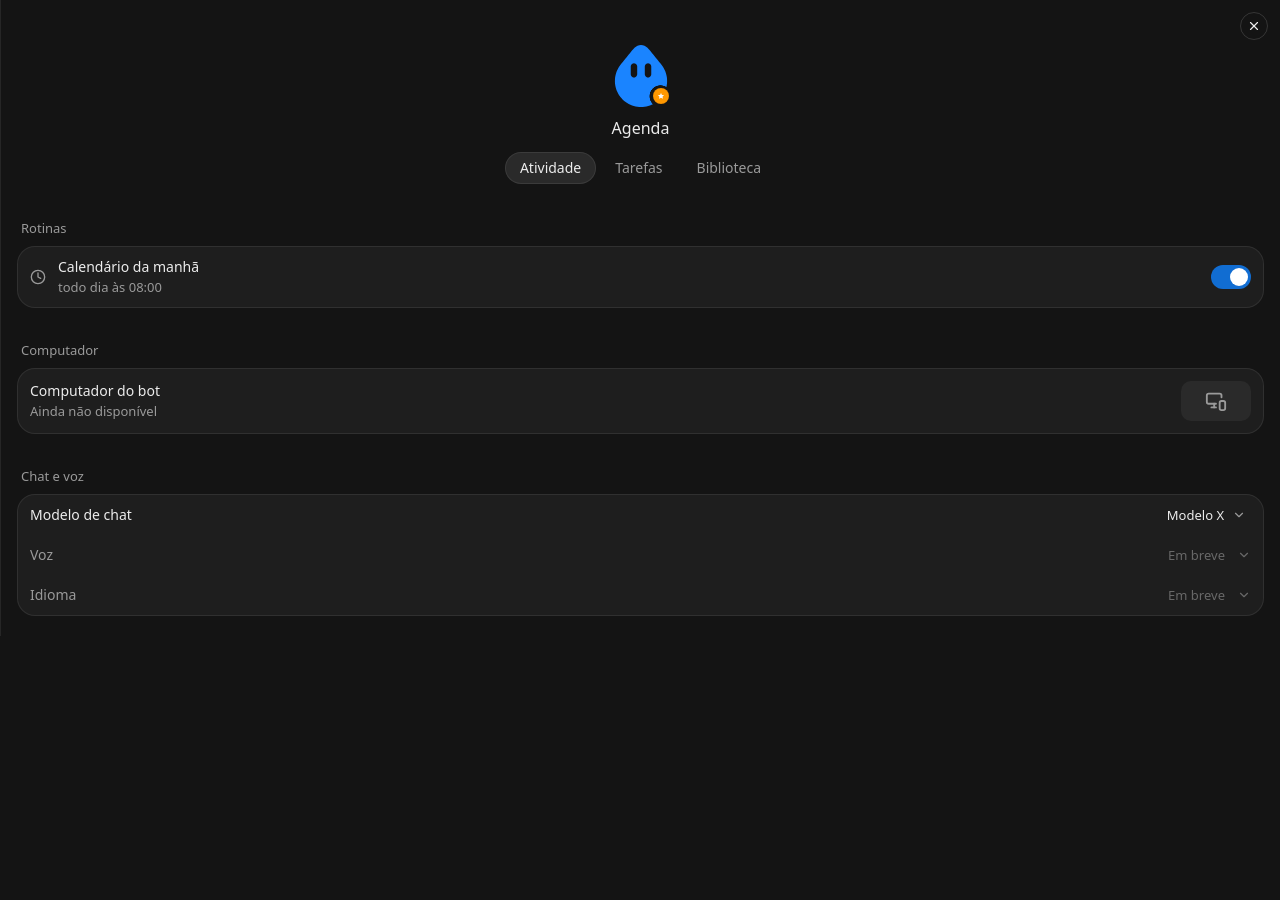
Test: the detail of a routine, in the panel › Pausar and Retomar change the routine
Click the button "Calendário da manhã todo dia às 08:00". click: (129, 266)
box: top-left (18, 247), bottom-right (1199, 307)
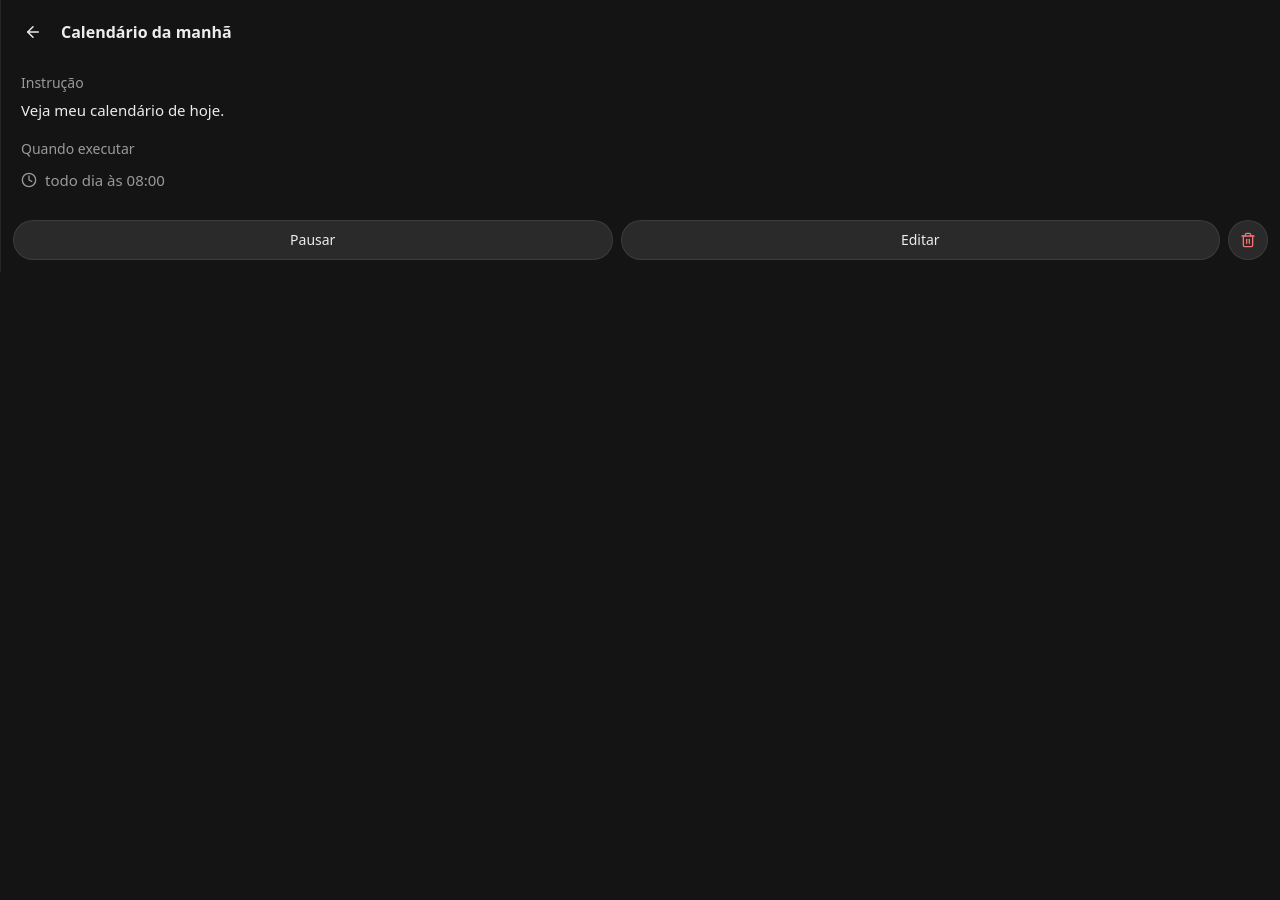
Click the button "Pausar". click: (313, 240)
box: top-left (13, 220), bottom-right (612, 260)
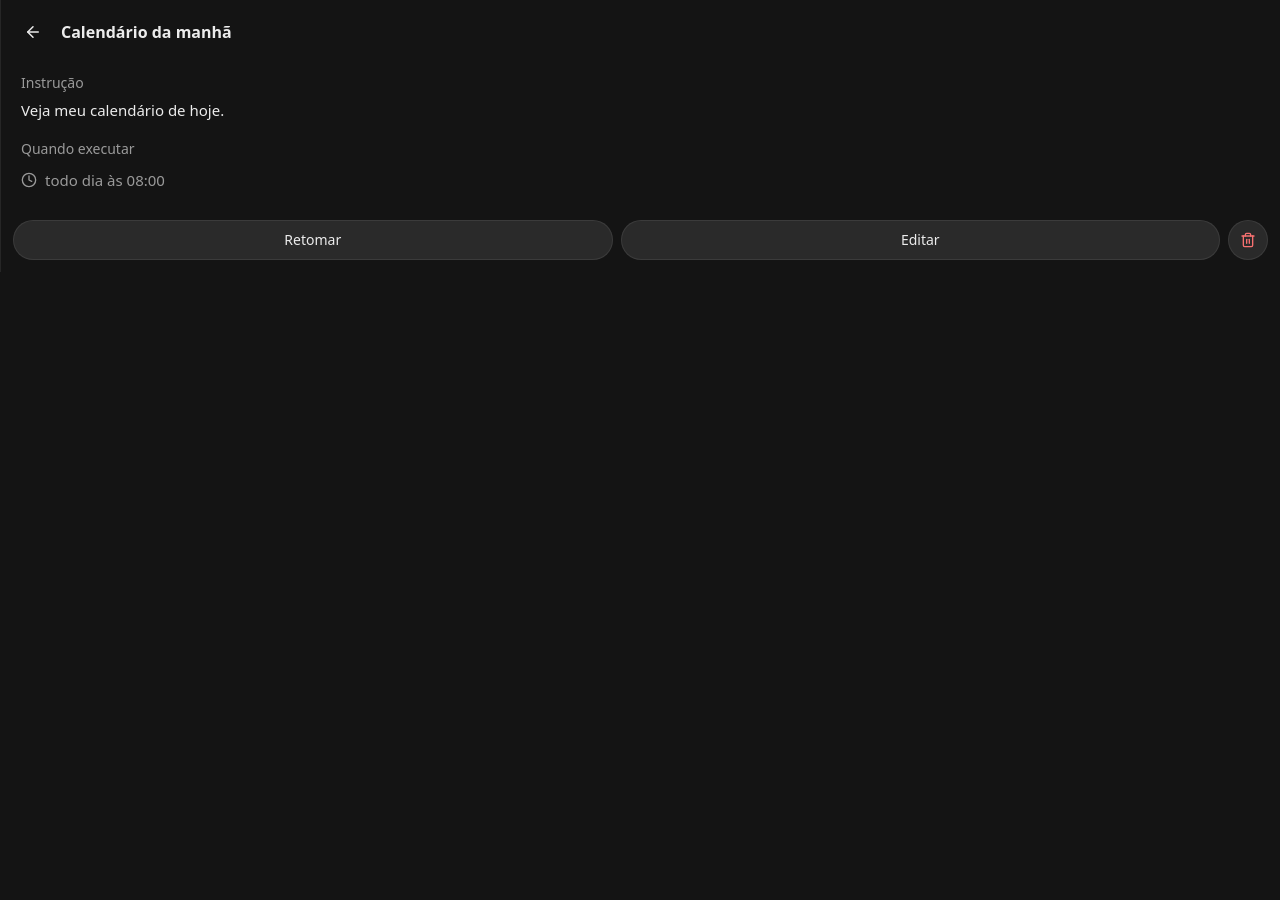
Check: the button "Retomar" is shown, box top-left (13, 220), bottom-right (612, 260)
